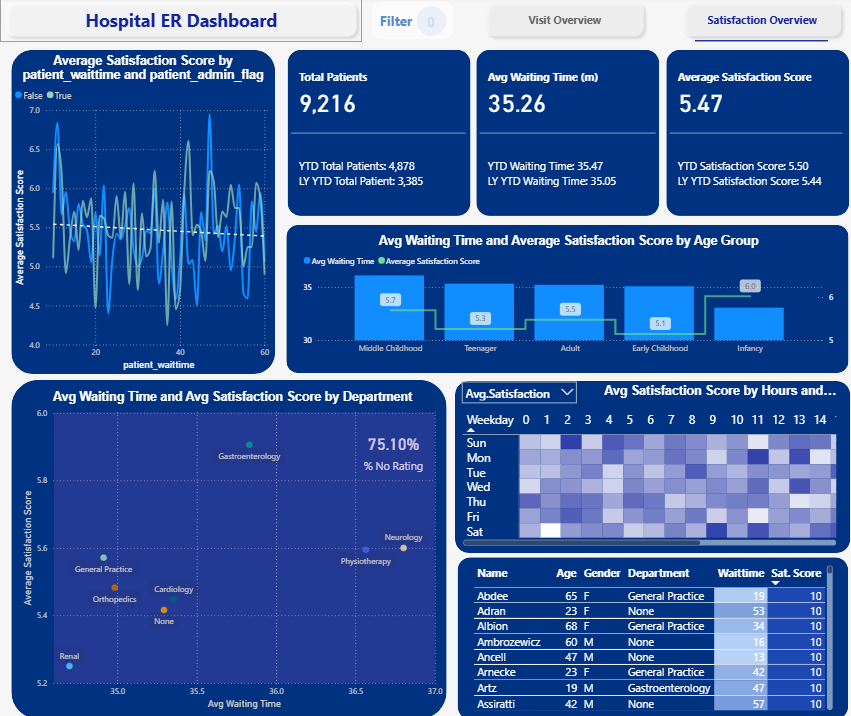

The dashboard page shown, as its layout file describes it:
{"tool":"powerbi","page":{"name":"Satisfaction Overview","canvas":[1280,1080],"ordinal":1},"visuals":[{"type":"actionButton","box":[554.7,6.7,122.9,57.1],"z":0,"group":"g3"},{"type":"shape","box":[427.8,342.2,839.5,221.7],"z":0,"group":"g2"},{"type":"shape","box":[16.7,573.3,650,506.7],"z":0},{"type":"shape","box":[679.6,573.9,590,256.7],"z":0,"group":"g1"},{"type":"actionButton","box":[622,13.8,45,45],"z":1000,"group":"g3"},{"type":"shape","box":[428.3,80,273.3,248.3],"z":1000},{"type":"shape","box":[682.3,837.9,583.3,242.1],"z":2000},{"type":"group","id":"g1","title":"Group 3","box":[679.6,573.9,590,256.7],"z":3000},{"type":"shape","box":[16,80,394,484],"z":4000},{"type":"pivotTable","fields":{"Values":["Measure Tables.Average Satisfaction Score"],"Rows":["Dim_Date.ShortWeekdayName"],"Columns":["Dim_Time.Hour"]},"box":[686.7,616.7,566.7,210],"z":5000},{"type":"actionButton","box":[717.2,0,253.1,69.2],"z":6000},{"type":"actionButton","box":[1010.6,0,253.1,69.2],"z":7000},{"type":"group","id":"g2","title":"Group 4","box":[427.8,342.2,839.5,221.7],"z":8000},{"type":"group","id":"g3","title":"Group 6","box":[554.7,6.7,122.7,57.3],"z":9000},{"type":"card","fields":{"Values":["Measure Tables.% No Rating"]},"box":[530,638.3,115,83.3],"z":11000},{"type":"shape","box":[1037.8,55,198.7,25.3],"z":12000},{"type":"actionButton","box":[0,0,541.3,69.3],"z":13000},{"type":"lineClusteredColumnComboChart","fields":{"Y":["Measure Tables.Avg Waiting Time"],"Y2":["Measure Tables.Average Satisfaction Score"],"Category":["Hospital ER.Age Group"]},"box":[448.3,355.2,801.7,189.7],"z":14000},{"type":"tableEx","fields":{"Values":["Hospital ER.patient_last_name","Sum(Hospital ER.patient_age)","Hospital ER.patient_gender","Hospital ER.department_referral","Sum(Hospital ER.patient_waittime)","Hospital ER.patient_sat_score"]},"box":[700.7,845.2,546.6,225.6],"z":15000},{"type":"slicer","fields":{"Values":["Fields Parameter.Fields Parameter"]},"box":[678.3,565,191.7,45],"z":16000},{"type":"actionButton","box":[870,573.3,391.7,35],"z":17000},{"type":"lineChart","fields":{"Category":["Hospital ER.patient_waittime"],"Y":["Measure Tables.Average Satisfaction Score"],"Series":["Hospital ER.patient_admin_flag"]},"box":[16.7,85,393.3,478.3],"z":18000},{"type":"scatterChart","title":"Avg Waiting Time and Avg Satisfaction Score by Department","fields":{"X":["Measure Tables.Avg Waiting Time"],"Y":["Measure Tables.Average Satisfaction Score"],"Series":["Hospital ER.department_referral"]},"box":[28.3,588.3,638.3,481.7],"z":19000},{"type":"shape","box":[711.7,80,273.3,248.3],"z":20000},{"type":"shape","box":[995,80,273.3,248.3],"z":21000},{"type":"cardVisual","fields":{"Data":["Measure Tables.Total Patients"]},"box":[428.3,80,271.7,248.3],"z":22000},{"type":"cardVisual","fields":{"Data":["Measure Tables.Avg Waiting Time"]},"box":[711.7,80,273.3,248.3],"z":23000},{"type":"cardVisual","fields":{"Data":["Measure Tables.Average Satisfaction Score"]},"box":[995,80,268.3,248.3],"z":24000}]}

Visuals, with their boxes in screenshot pixels (x1, y1, x2, y2), scaled from the page's 1280x1080 canvas onto the 851x716 screenshot:
actionButton: crop(369, 4, 450, 42)
shape: crop(284, 227, 843, 374)
shape: crop(11, 380, 443, 715)
shape: crop(452, 380, 844, 551)
actionButton: crop(414, 9, 443, 39)
shape: crop(285, 53, 466, 218)
shape: crop(454, 555, 841, 715)
"Group 3" group: crop(452, 380, 844, 551)
shape: crop(11, 53, 273, 374)
pivotTable - Measure Tables.Average Satisfaction Score x Dim_Date.ShortWeekdayName: crop(457, 409, 833, 548)
actionButton: crop(477, 0, 645, 46)
actionButton: crop(672, 0, 840, 46)
"Group 4" group: crop(284, 227, 843, 374)
"Group 6" group: crop(369, 4, 450, 42)
card - Measure Tables.% No Rating: crop(352, 423, 429, 478)
shape: crop(690, 36, 822, 53)
actionButton: crop(0, 0, 360, 46)
lineClusteredColumnComboChart - Measure Tables.Avg Waiting Time x Measure Tables.Average Satisfaction Score: crop(298, 235, 831, 361)
tableEx - Hospital ER.patient_last_name x Sum(Hospital ER.patient_age): crop(466, 560, 829, 710)
slicer - Fields Parameter.Fields Parameter: crop(451, 375, 578, 404)
actionButton: crop(578, 380, 839, 403)
lineChart - Hospital ER.patient_waittime x Measure Tables.Average Satisfaction Score: crop(11, 56, 273, 373)
"Avg Waiting Time and Avg Satisfaction Score by Department" scatterChart: crop(19, 390, 443, 709)
shape: crop(473, 53, 655, 218)
shape: crop(662, 53, 843, 218)
cardVisual - Measure Tables.Total Patients: crop(285, 53, 465, 218)
cardVisual - Measure Tables.Avg Waiting Time: crop(473, 53, 655, 218)
cardVisual - Measure Tables.Average Satisfaction Score: crop(662, 53, 840, 218)
